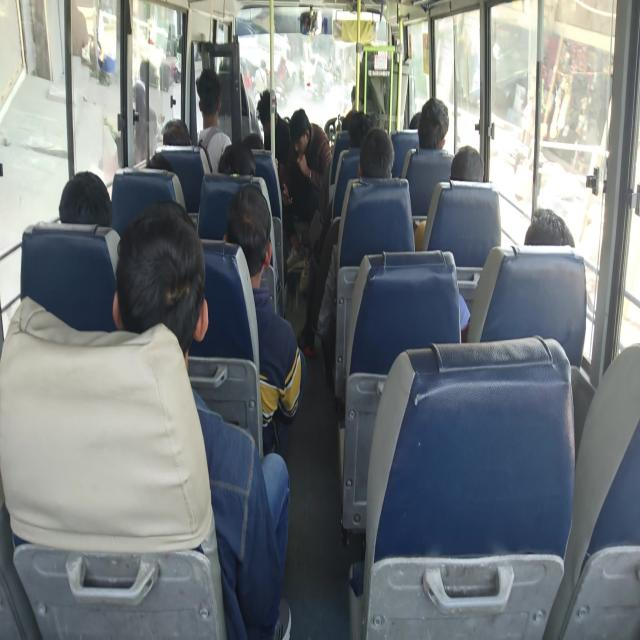person: (125, 226, 202, 326), (225, 178, 274, 257), (60, 165, 110, 230), (518, 204, 581, 253), (189, 72, 236, 124), (216, 143, 255, 187), (419, 99, 452, 150), (447, 143, 488, 181), (333, 102, 369, 145), (358, 134, 388, 183), (292, 100, 316, 160), (159, 105, 193, 147), (213, 37, 247, 77), (352, 41, 378, 80), (254, 88, 276, 122), (242, 130, 272, 154), (145, 152, 173, 177)
